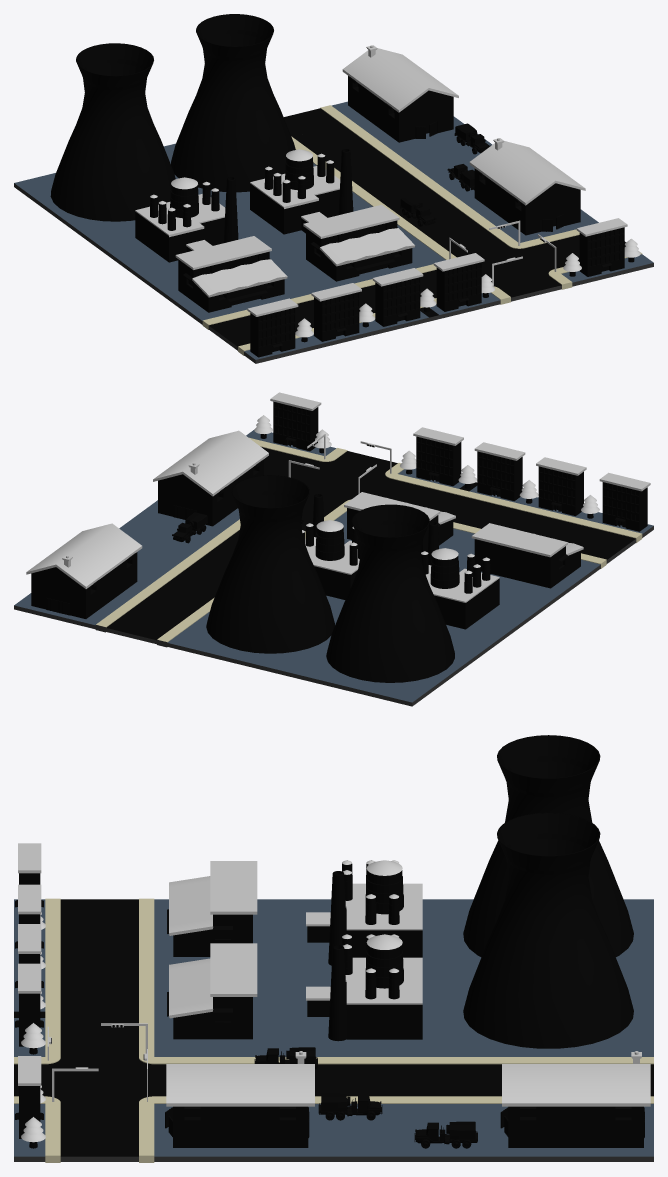
3 renders of one model, top to bottom at view 1: azimuth 30°, elevation 25°; view 2: azimuth 150°, elevation 25°; view 3: azimuth 270°, elevation 25°, orthographic. The views are drawn at different scales.
Parts seen in each view (by area): view 1: merged; view 2: merged; view 3: merged.
Boxes of the visible parts, x1,y1,x2,y2 form: merged: (14,14,653,363); merged: (14,392,653,706); merged: (14,735,653,1162).
Size of what is drawn, in the model's own units: 15600 by 16400 by 5319.
